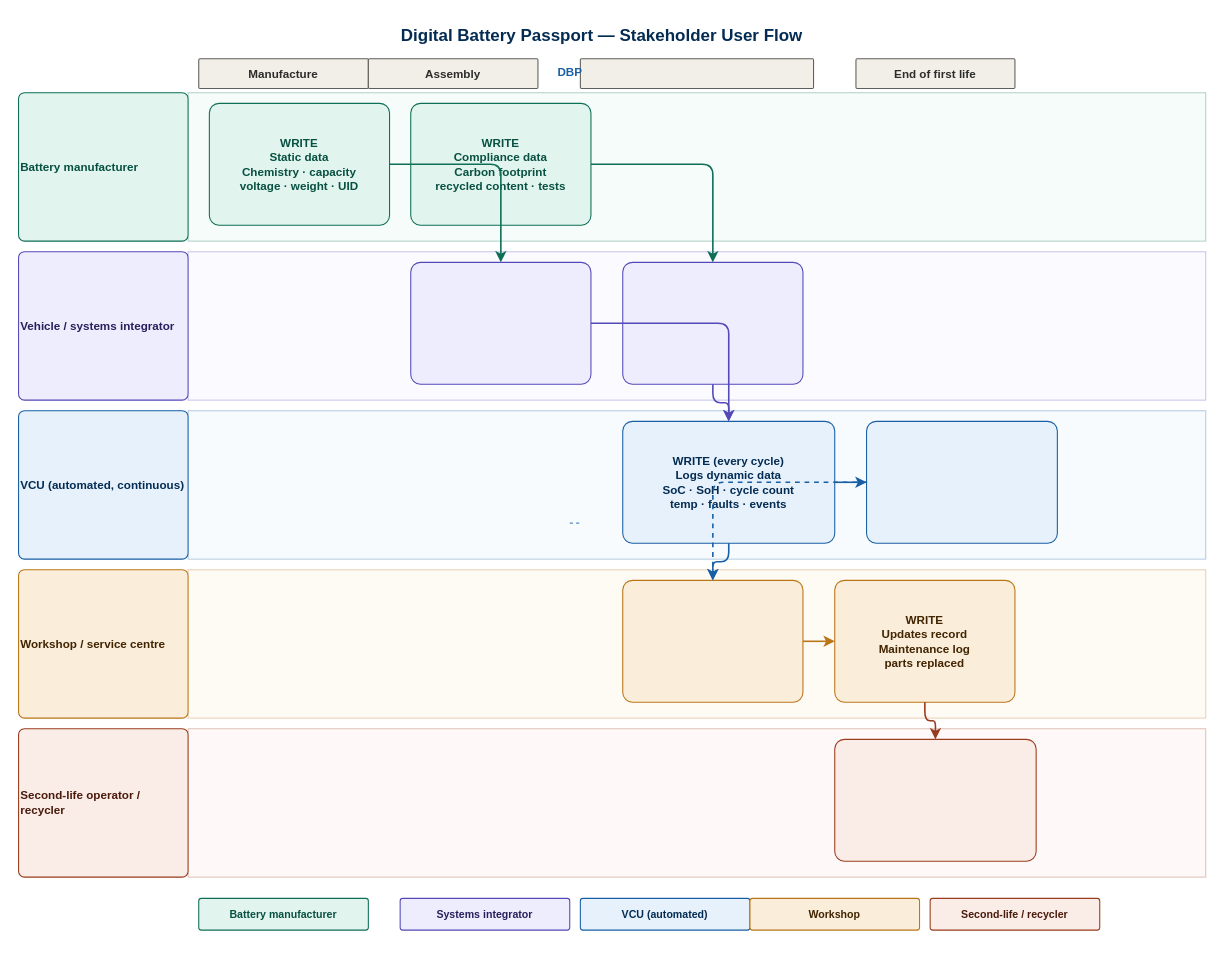
Some shapes in this 1224 by 976 pixel diagram are drawn without their labels. Each missing label, with the centre of its shape:
Operation (continuous): the point at 696,73
READ Full history SoH · cycle count events · chemistry: the point at 935,799
READ Passport query SoH · fault history cycle count: the point at 712,640
WRITE Adds pack data Integration date vehicle type · config: the point at 712,322
WRITE Blockchain anchor Hash per cycle signed + timestamped: the point at 961,481
WRITE Configures VCU Links battery UID sets schema mapping: the point at 500,322
